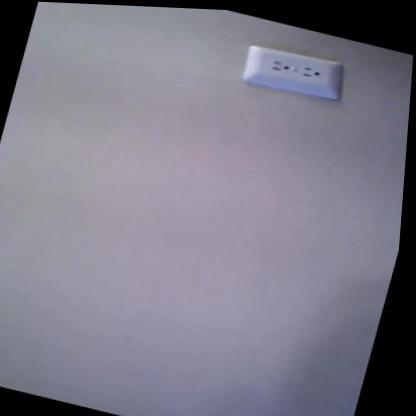OUTLET: (235, 40, 351, 104)
